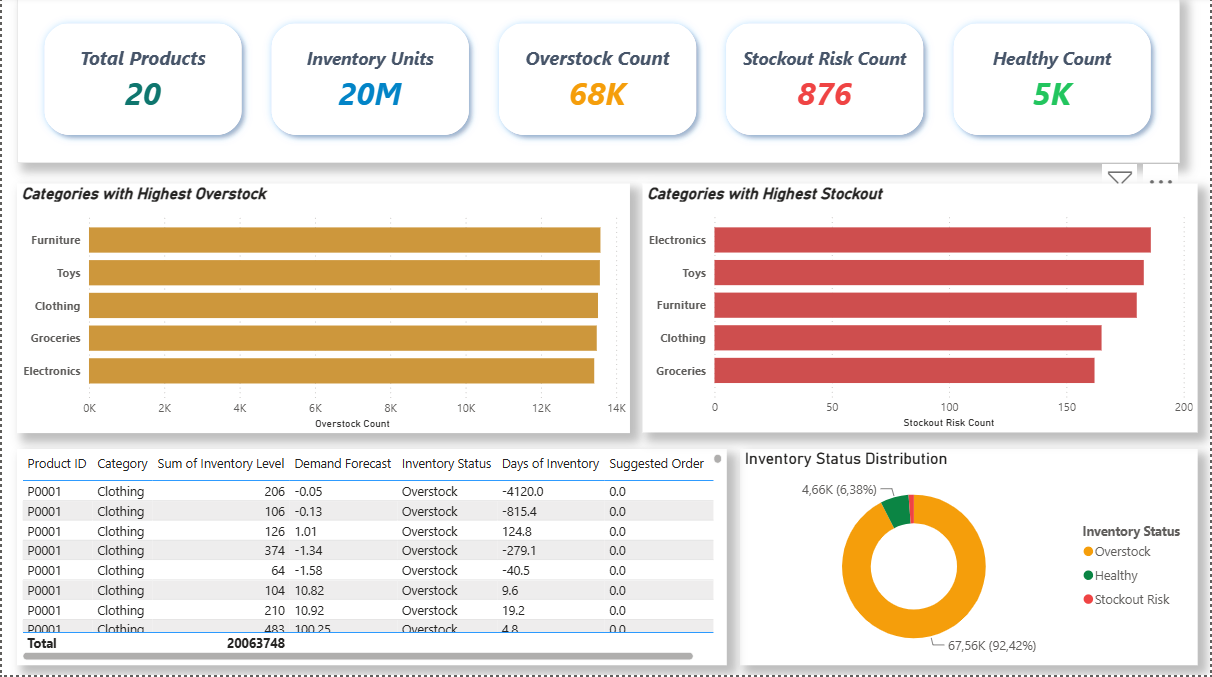

Layout of this report page (visuals, bound fields, positions):
{"tool":"powerbi","page":{"name":"Inventory Health Dashboard","canvas":[1280,720],"ordinal":0},"visuals":[{"type":"cardVisual","fields":{"Data":["_Measure.Total Products","_Measure.Inventory Units","_Measure.Overstock Count","_Measure.Stockout Risk Count","_Measure.Healthy Count"]},"box":[15.9,0,1232.7,176.6],"z":0},{"type":"donutChart","title":"Inventory Status Distribution","fields":{"Category":["recommendation.Inventory Status"],"Y":["CountNonNull(recommendation.Product ID)"]},"box":[782.6,480.4,485.1,229],"z":1000},{"type":"clusteredBarChart","title":"Categories with Highest Overstock","fields":{"Category":["recommendation.Category"],"Y":["_Measure.Overstock Count"]},"box":[15.1,198.4,650.1,264.6],"z":2000},{"type":"tableEx","fields":{"Values":["recommendation.Product ID","recommendation.Category","Sum(recommendation.Inventory Level)","recommendation.Demand Forecast","recommendation.Inventory Status","recommendation.Days of Inventory","recommendation.Suggested Order"]},"box":[15.9,480.4,752.4,229],"z":3000},{"type":"clusteredBarChart","title":"Categories with Highest Stockout","fields":{"Category":["recommendation.Category"],"Y":["_Measure.Stockout Risk Count"]},"box":[679.2,198.8,588.5,264],"z":4000}]}

Visuals, with their boxes in screenshot pixels (x1, y1, x2, y2), scaled from the page's 1280x720 canvas onto the 1212x677 screenshot:
cardVisual - _Measure.Total Products x _Measure.Inventory Units: crop(15, 0, 1182, 166)
"Inventory Status Distribution" donutChart: crop(741, 452, 1200, 667)
"Categories with Highest Overstock" clusteredBarChart: crop(14, 187, 630, 435)
tableEx - recommendation.Product ID x recommendation.Category: crop(15, 452, 727, 667)
"Categories with Highest Stockout" clusteredBarChart: crop(643, 187, 1200, 435)
